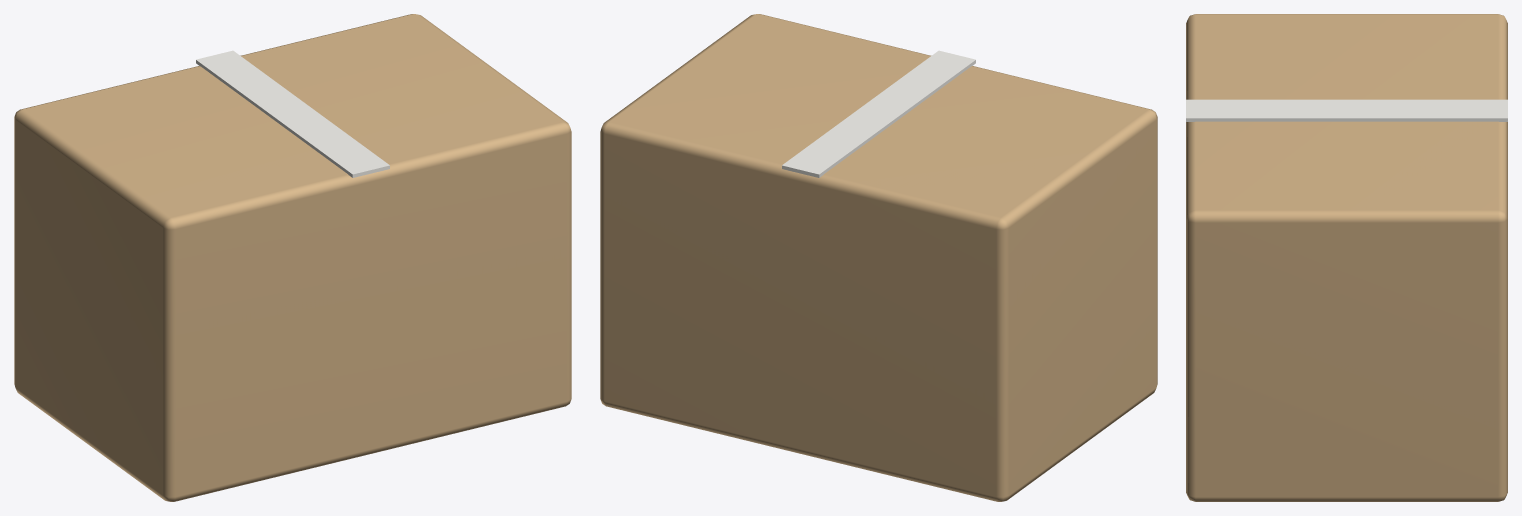
The model's file is Carton_Box.fbx.
The picture shows the model from 3 angles, left to right: view 1: azimuth 30°, elevation 25°; view 2: azimuth 150°, elevation 25°; view 3: azimuth 270°, elevation 25°; orthographic projection. The views are drawn at different scales.
Visible parts, largest first — view 1: Carton_Box_Cardboard, Carton_Box_White; view 2: Carton_Box_Cardboard, Carton_Box_White; view 3: Carton_Box_Cardboard, Carton_Box_White.
Boxes of the visible parts, x1,y1,x2,y2 form: Carton_Box_Cardboard: (14,14,571,501); Carton_Box_White: (196,50,389,177); Carton_Box_Cardboard: (600,14,1157,501); Carton_Box_White: (782,50,975,177); Carton_Box_Cardboard: (1186,14,1507,501); Carton_Box_White: (1186,99,1507,121).
Bounding box in the file's own units: 60 × 40.45 × 40.
